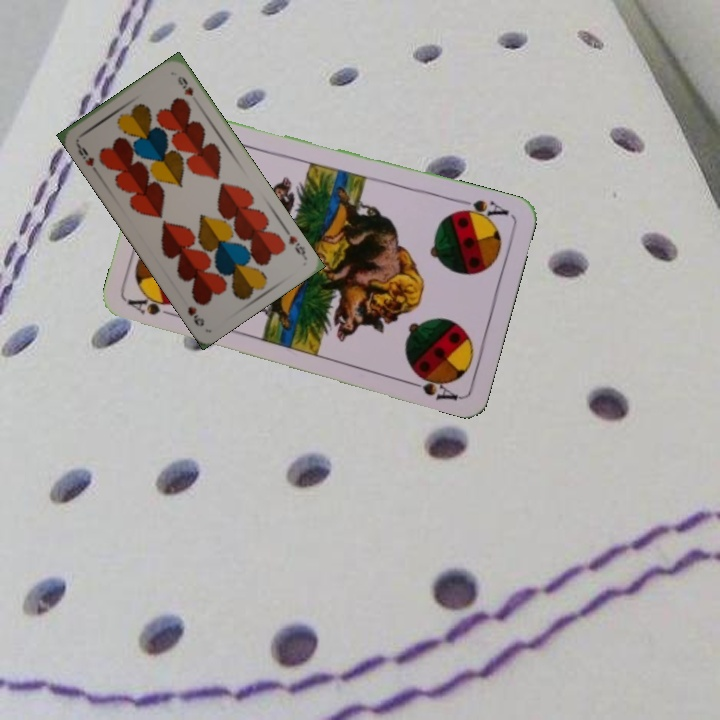H9: (72, 139, 97, 169), (284, 231, 309, 261)
SA: (451, 194, 511, 225), (125, 294, 183, 321)
